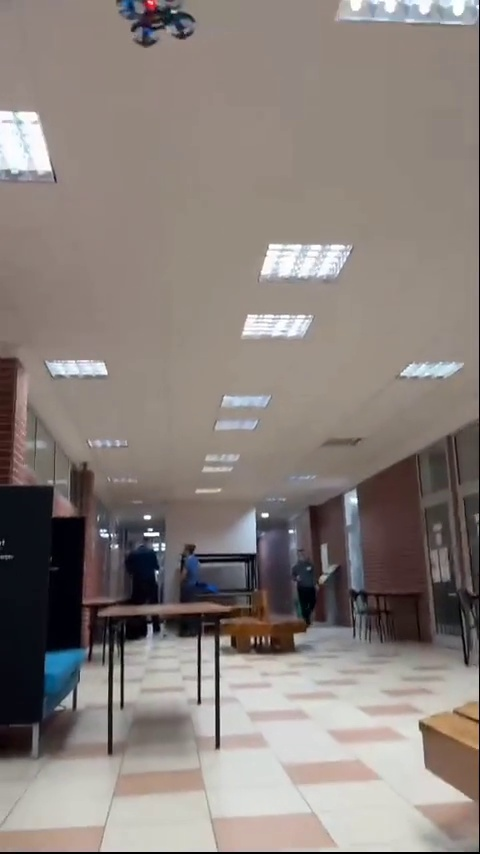drone: (119, 0, 201, 51)
no vest: (134, 533, 167, 637), (288, 539, 321, 623), (177, 536, 209, 601)
